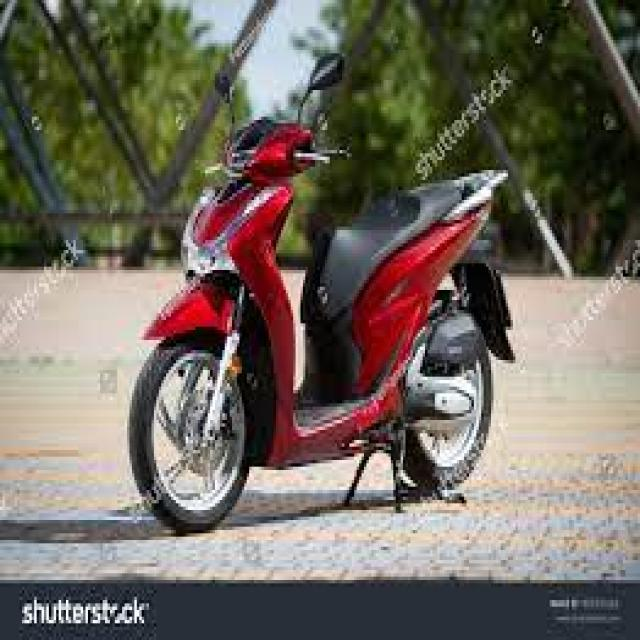Scooty: (119, 38, 542, 560)
